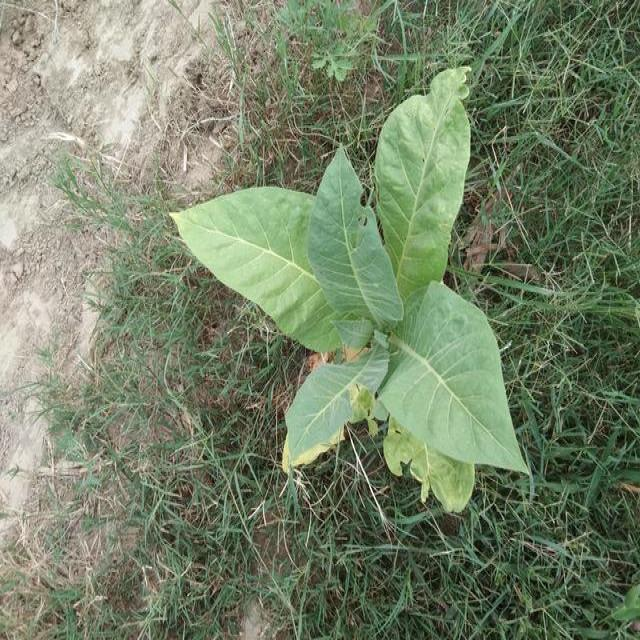crop: (163, 72, 532, 516)
